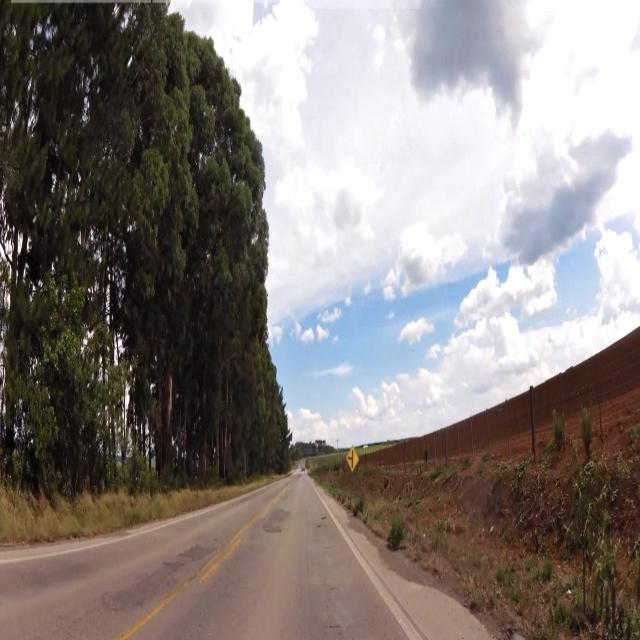A-7a: (347, 444, 359, 476)
